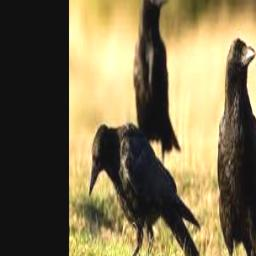Crow: (88, 122, 200, 256), (217, 37, 256, 256), (134, 0, 181, 168)
